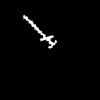double_crochet: (23, 15, 56, 47)
